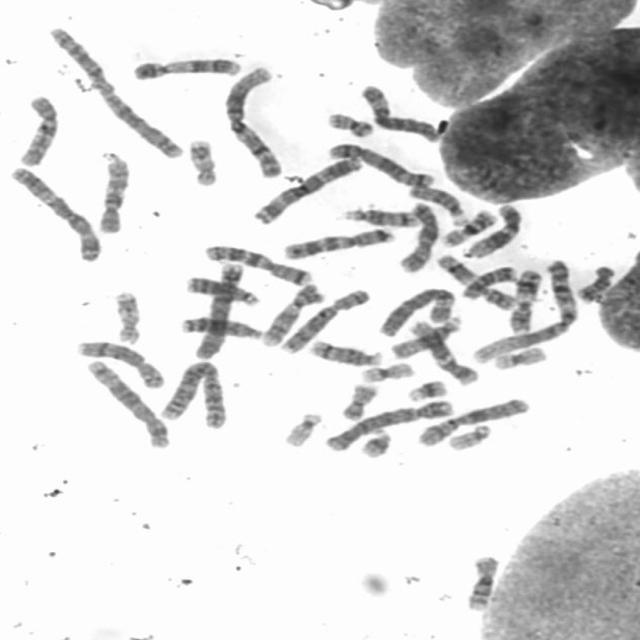A1: (471, 260, 578, 364), (223, 66, 284, 180)
A2: (44, 25, 184, 160), (162, 361, 230, 430)
A3: (8, 166, 103, 262), (253, 157, 360, 224)
B4: (326, 401, 458, 455), (192, 264, 246, 360)
B5: (88, 359, 172, 449), (328, 142, 434, 186)
C10: (96, 152, 132, 236), (19, 95, 59, 167)
C11: (434, 254, 515, 310), (508, 272, 544, 336)
C12: (408, 320, 478, 386), (464, 203, 522, 259)
C6: (360, 83, 438, 144), (379, 286, 456, 338)
C7: (207, 242, 312, 287), (284, 227, 395, 260)
C8: (283, 291, 370, 354), (76, 338, 167, 389)
C9: (258, 284, 326, 347), (132, 58, 244, 80)
D13: (186, 276, 258, 306), (182, 314, 262, 340)
D14: (308, 339, 382, 368), (342, 208, 420, 228)
D15: (389, 314, 462, 361), (409, 184, 466, 225)
E16: (443, 211, 497, 247), (468, 551, 499, 613)
E17: (115, 291, 144, 344), (188, 138, 216, 187)
E18: (462, 266, 518, 300), (576, 265, 617, 300)
F19: (492, 345, 549, 371), (363, 361, 415, 384)
F20: (340, 384, 380, 422), (328, 112, 371, 138)
G21: (406, 379, 452, 403), (361, 427, 392, 460)
G22: (283, 412, 324, 448), (446, 424, 493, 452)
X: (417, 398, 530, 449), (399, 202, 441, 274)
